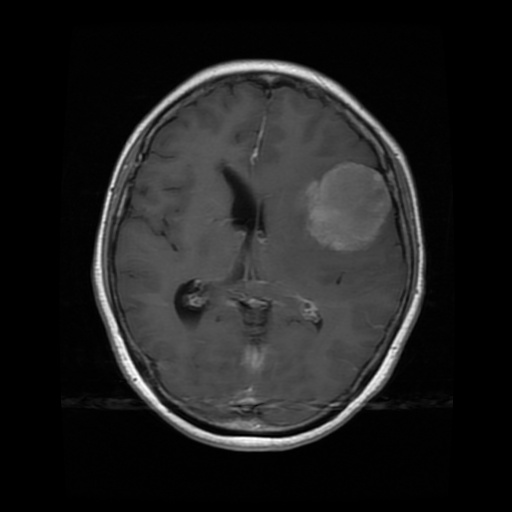meningioma: (304, 159, 390, 249)
